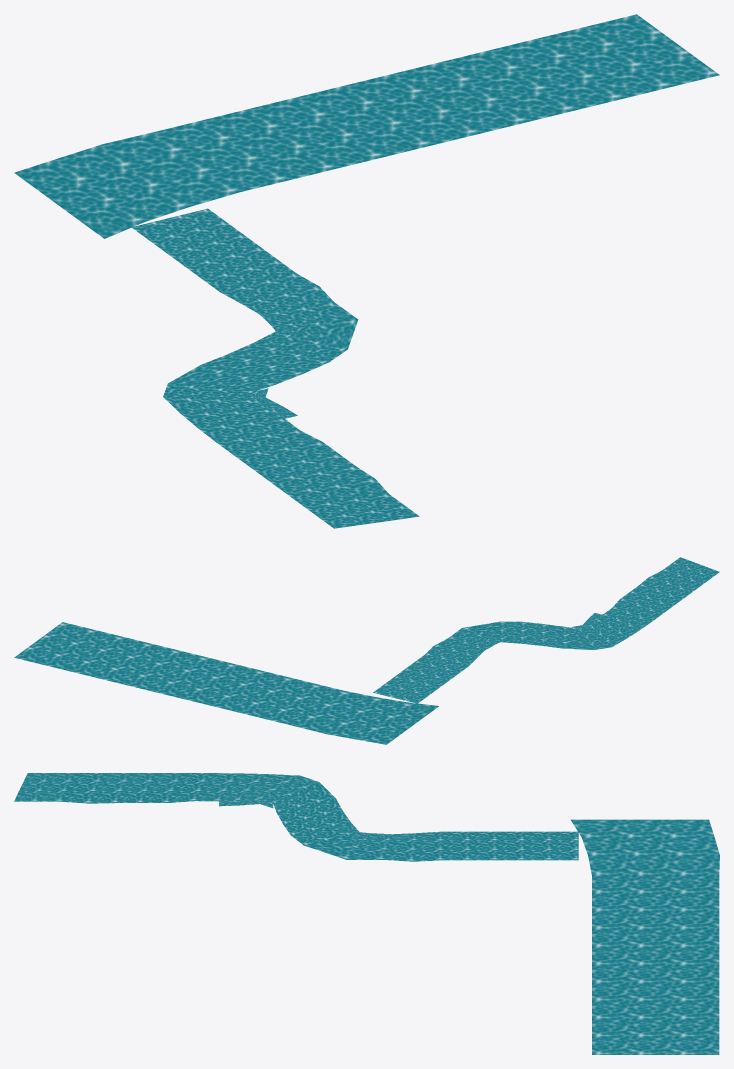
Rendered from riverMesh_level2.fbx.
3 renders of one model, top to bottom at view 1: azimuth 30°, elevation 25°; view 2: azimuth 150°, elevation 25°; view 3: azimuth 270°, elevation 25°, orthographic. The views are drawn at different scales.
Visible parts, largest first — view 1: riverMesh_level2; view 2: riverMesh_level2; view 3: riverMesh_level2.
Boxes of the visible parts, x1=… form: riverMesh_level2: x1=14, y1=14, x2=719, y2=528; riverMesh_level2: x1=14, y1=557, x2=719, y2=744; riverMesh_level2: x1=14, y1=773, x2=719, y2=1054.
Size of the model in its own units: 157 by 0 by 166.
Materials: 1 (1 with a texture image).
